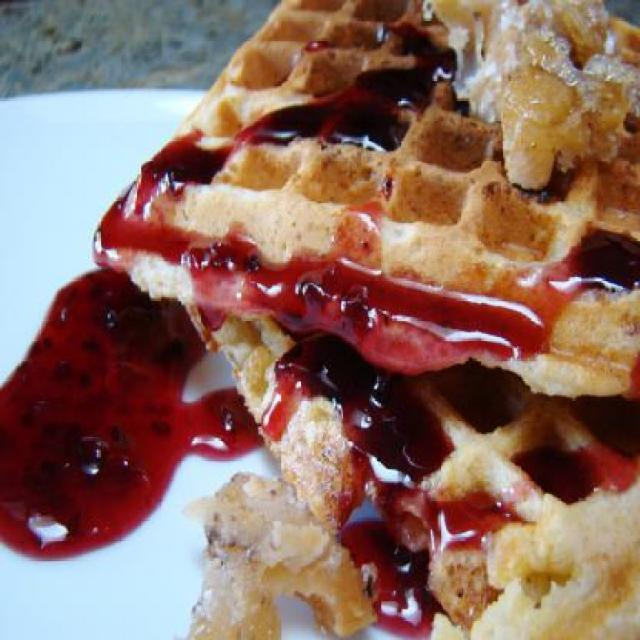Waffle: (92, 0, 638, 397), (183, 306, 640, 640)
